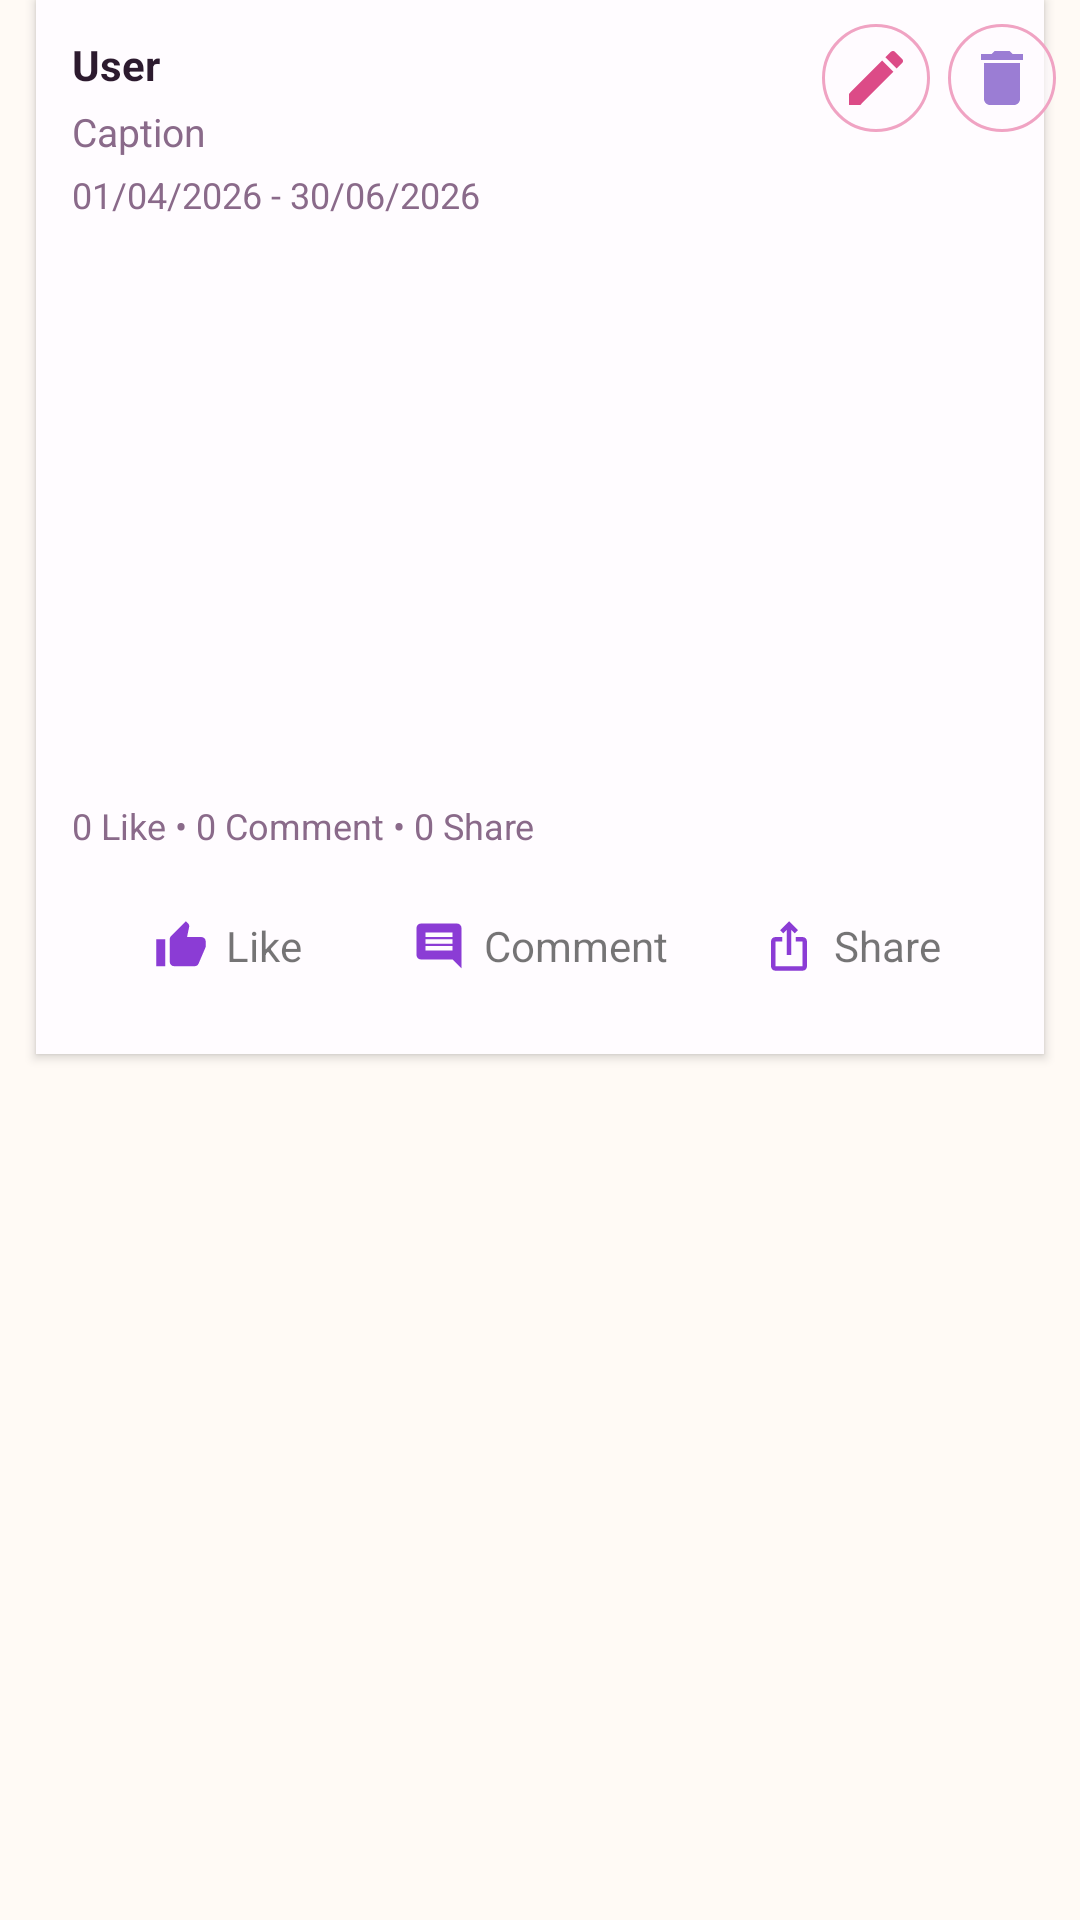

Icons on this 1080px×1920px Android screen, each with its box as {"left": x1, "top": y1, "right": x2, "bottom": y2}:
edit: {"left": 822, "top": 24, "right": 930, "bottom": 132}
thumb up: {"left": 156, "top": 921, "right": 206, "bottom": 967}
